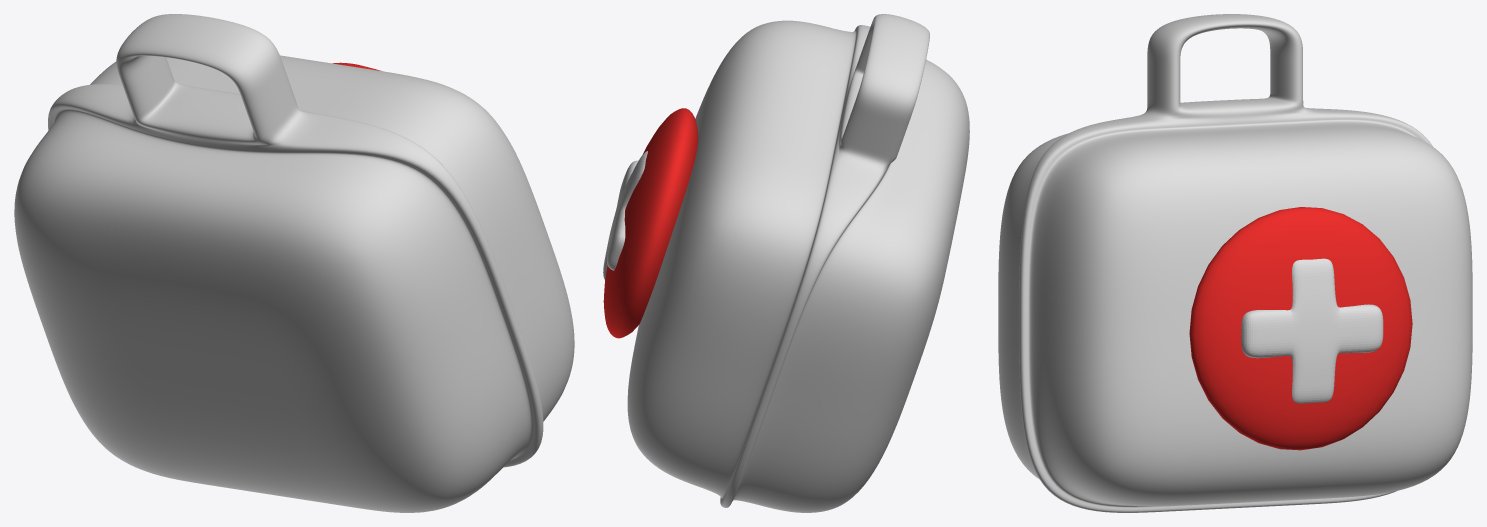
Rendered from firstAid.gltf.
3 renders of one model, left to right at view 1: azimuth 30°, elevation 25°; view 2: azimuth 150°, elevation 25°; view 3: azimuth 270°, elevation 25°, orthographic. The views are drawn at different scales.
Parts seen in each view (by area): view 1: Cube.001; view 2: Cube.001, Sphere, Cube.008; view 3: Cube.001, Sphere, Cube.008.
Boxes of the visible parts, <box> form: Cube.001: <box>14,14,574,512</box>; Cube.001: <box>627,14,969,512</box>; Sphere: <box>603,108,698,338</box>; Cube.008: <box>603,151,647,279</box>; Cube.001: <box>998,14,1472,512</box>; Sphere: <box>1189,207,1412,450</box>; Cube.008: <box>1241,258,1383,403</box>.
Size of the model in its own units: 5.69 by 6.49 by 6.27.
